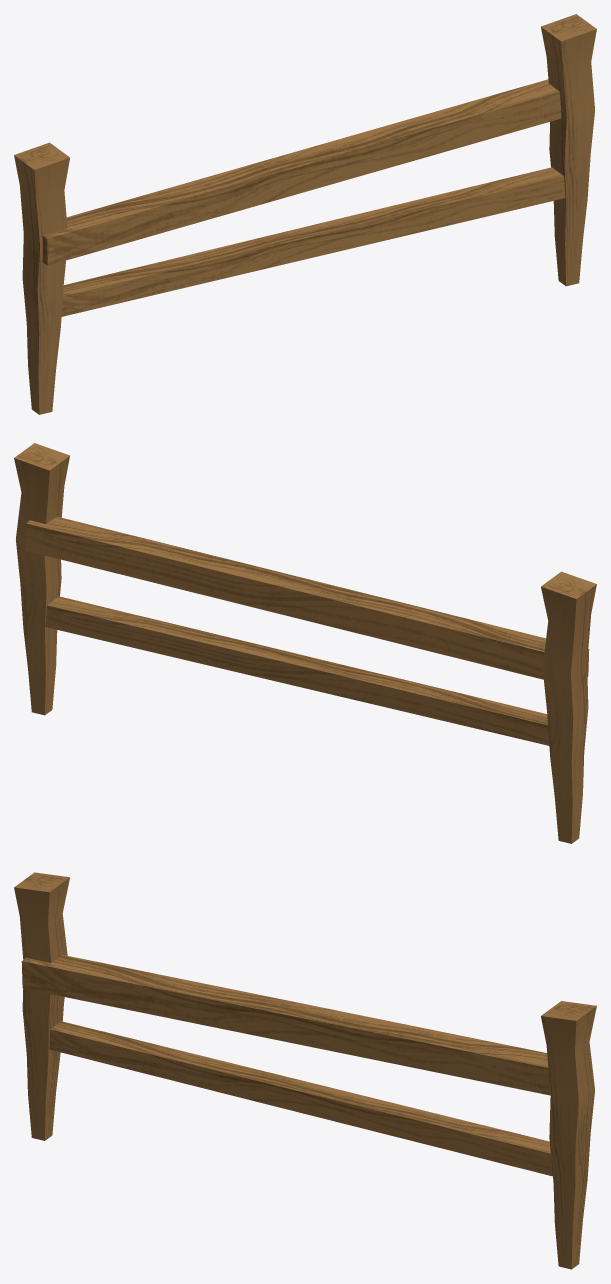
Rendered from Fence_Tipo2.fbx.
3 views of the same model, one above another, from view 1: azimuth 30°, elevation 25°; view 2: azimuth 150°, elevation 25°; view 3: azimuth 330°, elevation 25° (orthographic).
Parts seen in each view (by area): view 1: pCube17, pCube18, pCube19, pCube15; view 2: pCube17, pCube18, pCube15, pCube19; view 3: pCube17, pCube18, pCube19, pCube15.
Part boxes in pixels (x1,y1,x2,y2): pCube17: (42, 79, 561, 265); pCube18: (61, 167, 565, 316); pCube19: (541, 14, 596, 286); pCube15: (14, 142, 69, 414); pCube17: (25, 516, 589, 679); pCube18: (45, 596, 549, 745); pCube15: (541, 571, 596, 843); pCube19: (14, 443, 69, 715); pCube17: (21, 954, 550, 1095); pCube18: (49, 1021, 552, 1176); pCube19: (541, 1001, 596, 1269); pCube15: (14, 872, 69, 1140).
Size of the model in its own units: 21.51 by 9.36 by 1.69.
